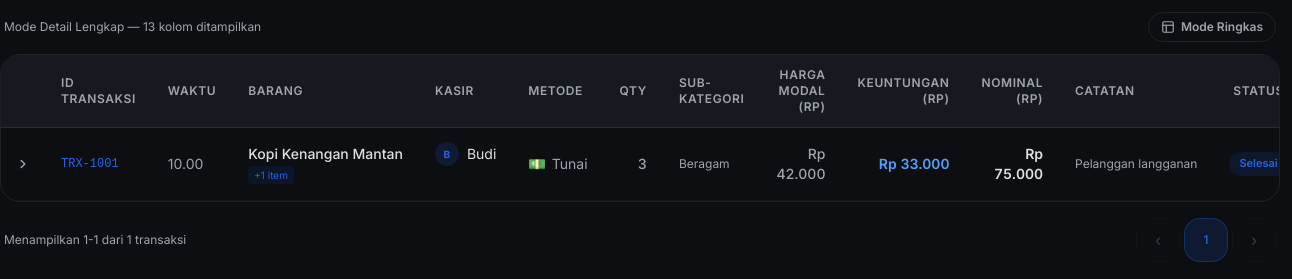
Test: TransactionTable — Mode Ringkas & Expandable Row (Roadmap 5.C) › switches to Mode Ringkas when toggle button is clicked
Click the button with aria-label "Beralih ke mode ringkas".
click(1212, 27)  # box [1148,12,1276,42]
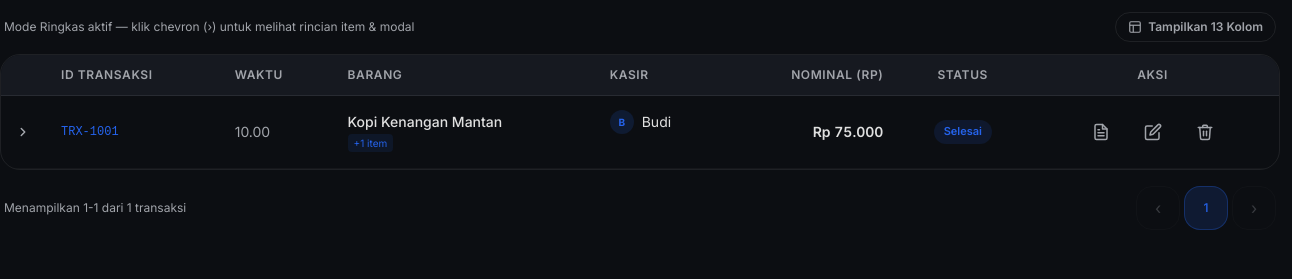
Expected: the column heading "Harga Modal (Rp)" is gone
Expected: the column heading "Keuntungan (Rp)" is gone
Expected: the button "Tampilkan 13 Kolom" is shown, [1115,12,1276,42]
